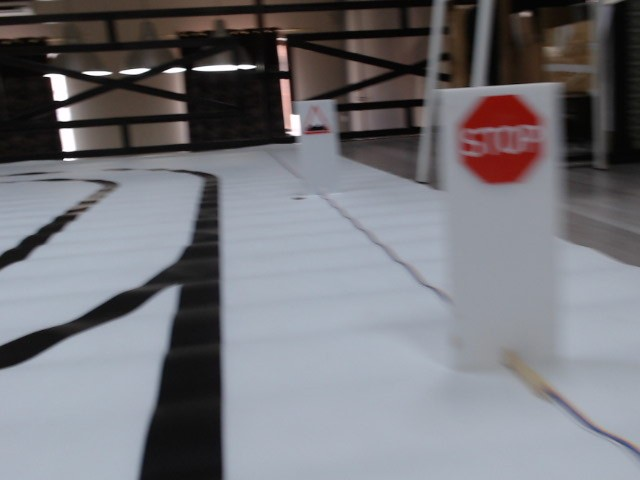Nerov: (302, 106, 333, 137)
Stop: (458, 91, 545, 185)
